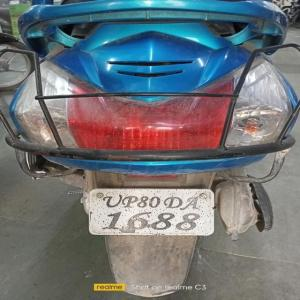Plate: (93, 190, 211, 238)
